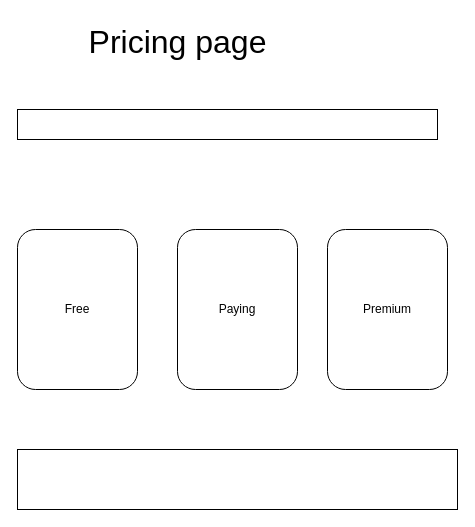
This 475x527 diagram has some shape labels left out. Each missing label, with the centre of its shape:
"Footer" goes at pixel 237 479.
"Save Yourself Pricing About Login" goes at pixel 227 124.
